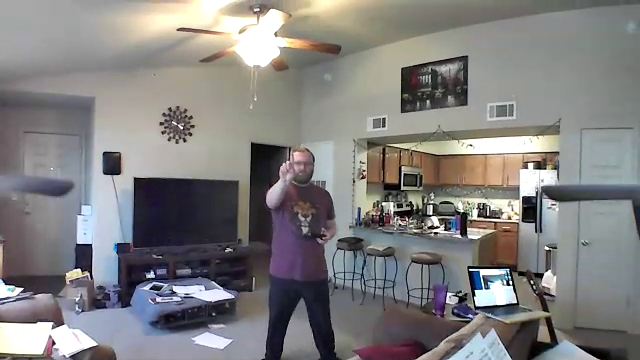up: (275, 150, 297, 181)
